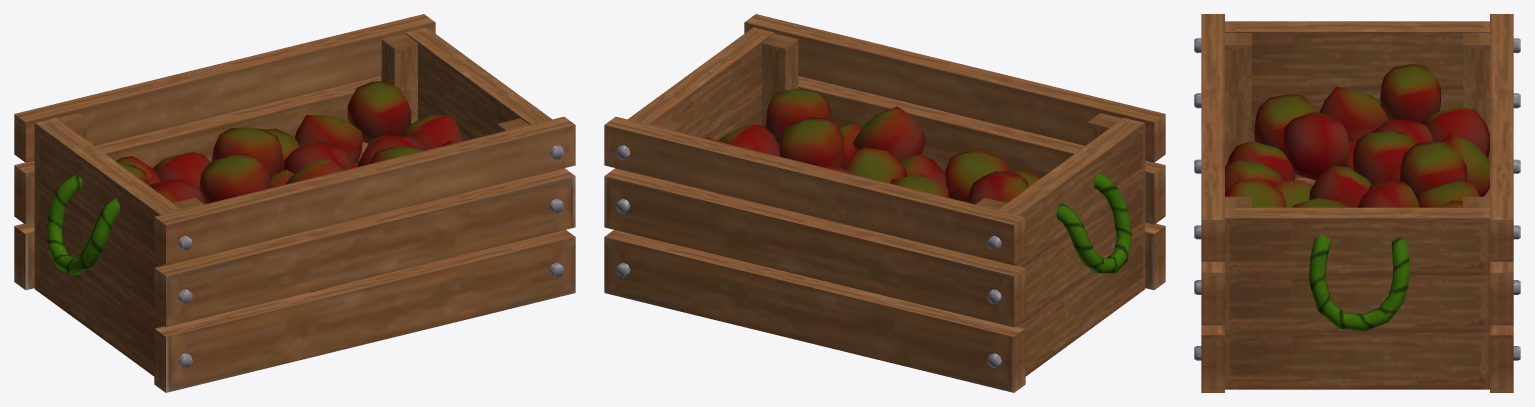
The model's file is FarmCrate_Apple.glb.
3 renders of one model, left to right at view 1: azimuth 30°, elevation 25°; view 2: azimuth 150°, elevation 25°; view 3: azimuth 270°, elevation 25°, orthographic. The views are drawn at different scales.
Visible parts, largest first — view 1: FarmCrate_Apple; view 2: FarmCrate_Apple; view 3: FarmCrate_Apple.
Part boxes in pixels (<box>): FarmCrate_Apple: <box>14,14,575,392</box>; FarmCrate_Apple: <box>604,14,1165,392</box>; FarmCrate_Apple: <box>1194,14,1520,392</box>.
Bounding box in the file's own units: 0.7138 × 0.2437 × 0.4142.
3 materials, 3 textured.
